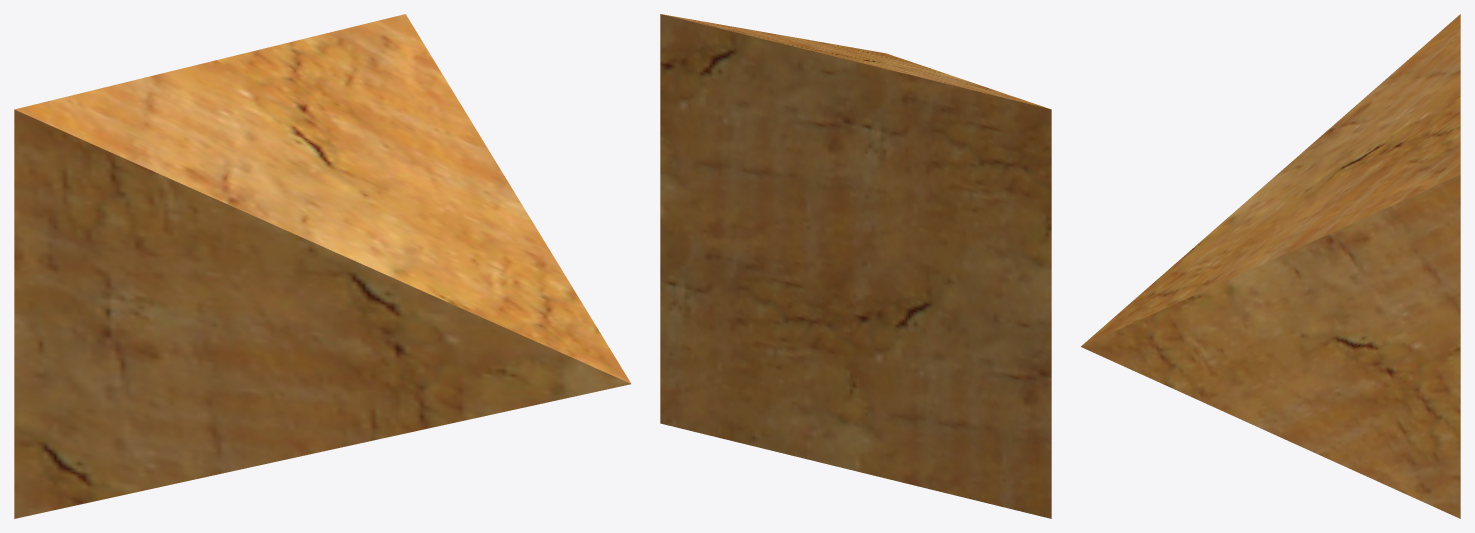
The model's file is block-ramp-tri-w.glb.
3 views of the same model, side by side, from view 1: azimuth 30°, elevation 25°; view 2: azimuth 150°, elevation 25°; view 3: azimuth 270°, elevation 25° (orthographic). The views are drawn at different scales.
Parts seen in each view (by area): view 1: Block-Ramp-Tri-W; view 2: Block-Ramp-Tri-W; view 3: Block-Ramp-Tri-W.
Boxes of the visible parts, x1,y1,x2,y2 form: Block-Ramp-Tri-W: [14, 14, 631, 518]; Block-Ramp-Tri-W: [660, 14, 1051, 518]; Block-Ramp-Tri-W: [1081, 14, 1460, 518].
Bounding box in the file's own units: 2 × 2 × 2.
1 material, 1 textured.
